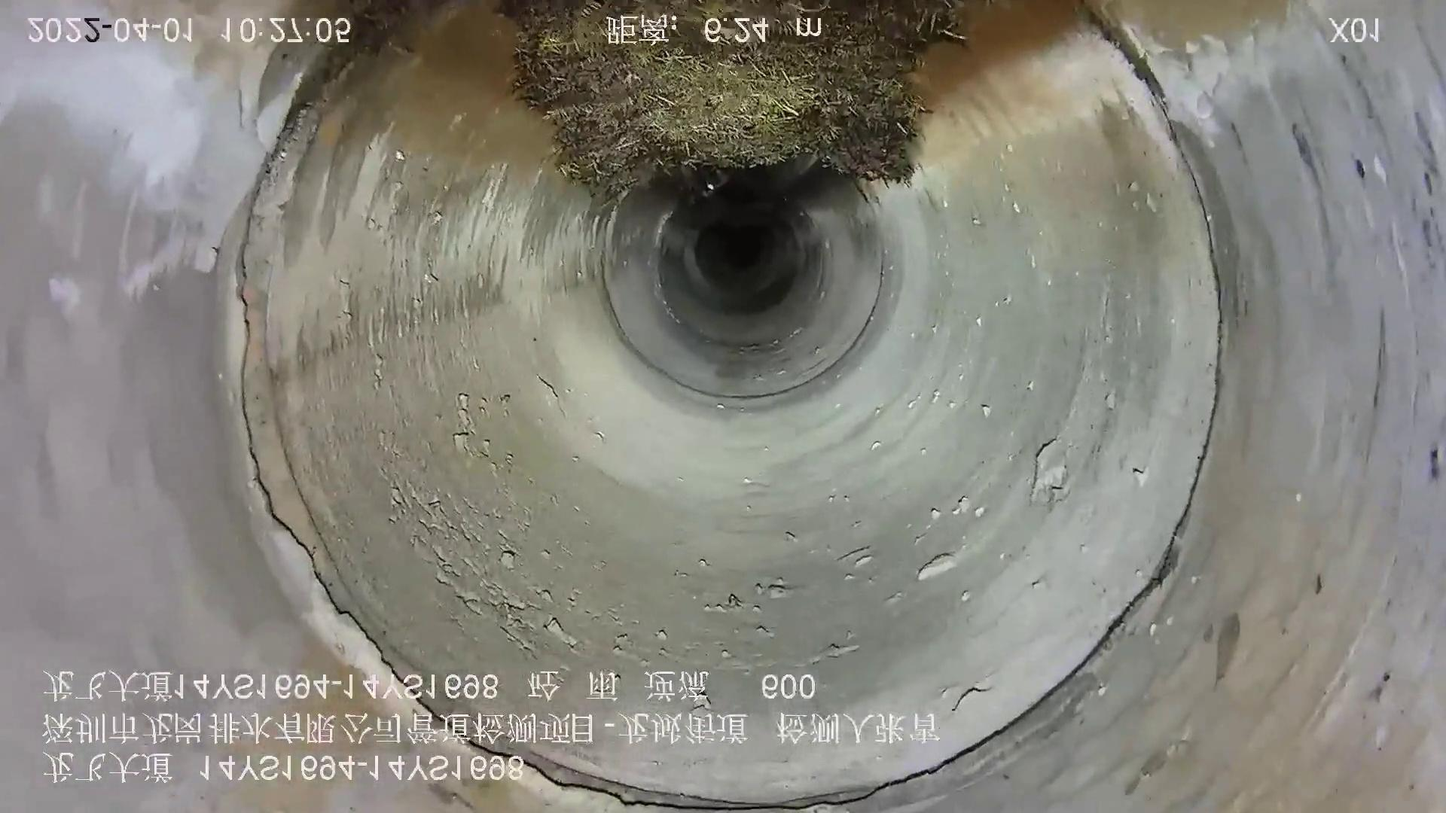CJ: (500, 1, 962, 198)
CKTJ: (236, 90, 340, 590), (458, 738, 886, 811), (329, 586, 451, 732)
